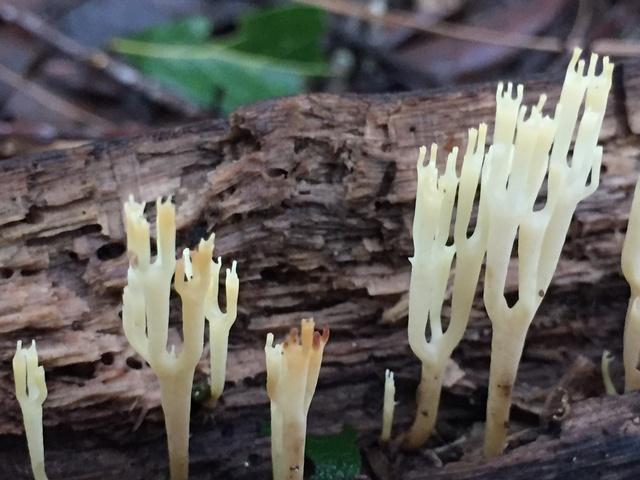edible_mushroom: (384, 45, 615, 458), (119, 191, 240, 478), (262, 316, 329, 479), (11, 337, 49, 479)
